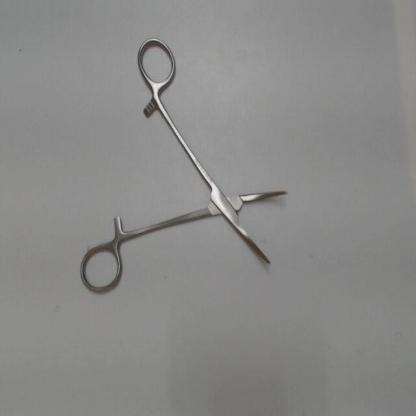Crile Artery Forceps: (75, 32, 294, 300)
